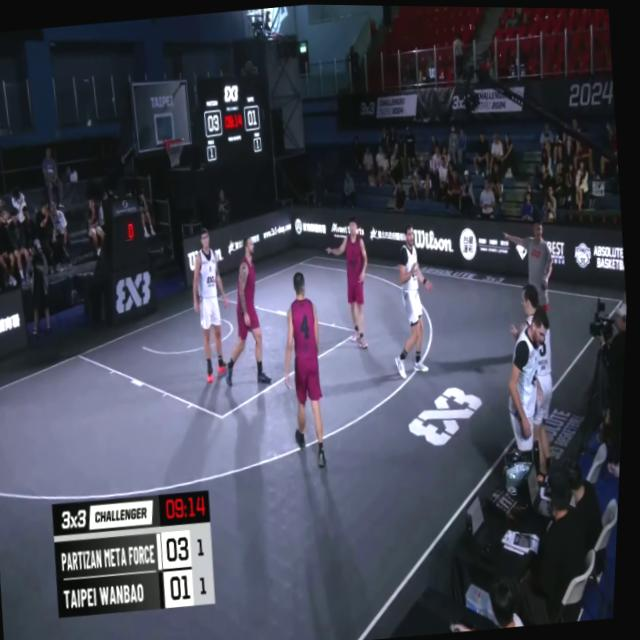hoop: (160, 130, 188, 168)
player: (271, 266, 334, 467), (210, 234, 280, 391), (382, 219, 445, 382), (500, 305, 559, 463), (506, 278, 566, 427), (186, 226, 242, 383), (319, 211, 377, 355)
